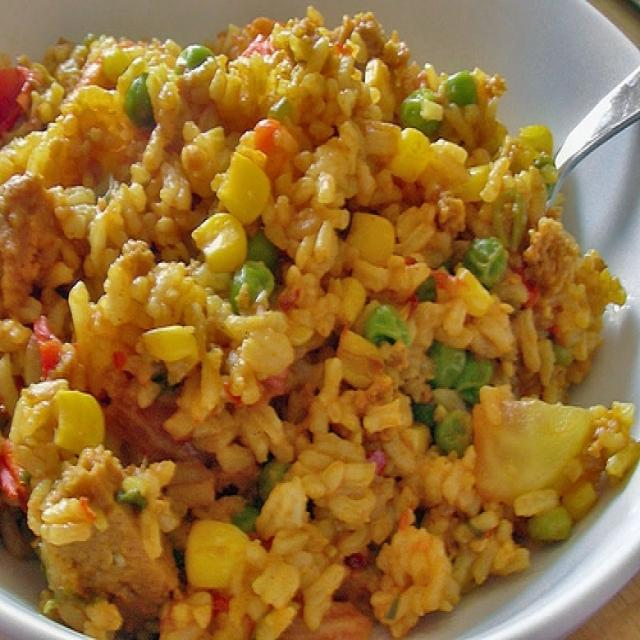米饭主食: (8, 11, 617, 614)
